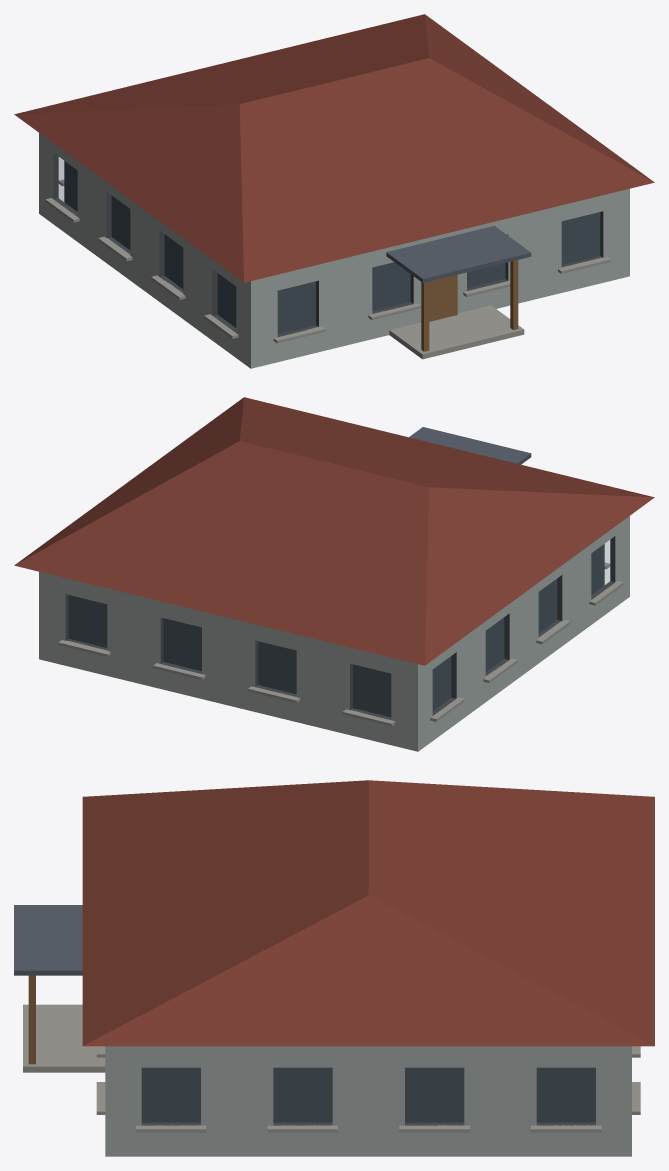
The model's file is house-3.glb.
3 renders of one model, top to bottom at view 1: azimuth 30°, elevation 25°; view 2: azimuth 150°, elevation 25°; view 3: azimuth 270°, elevation 25°, orthographic. The views are drawn at different scales.
Visible parts, largest first — view 1: house-3; view 2: house-3; view 3: house-3.
Part boxes in pixels (left/top/right/bottom): house-3: left=14, top=14, right=654, bottom=368; house-3: left=14, top=397, right=654, bottom=751; house-3: left=14, top=780, right=654, bottom=1156.
Size of the model in its own units: 12.91 by 4.93 by 14.02.
